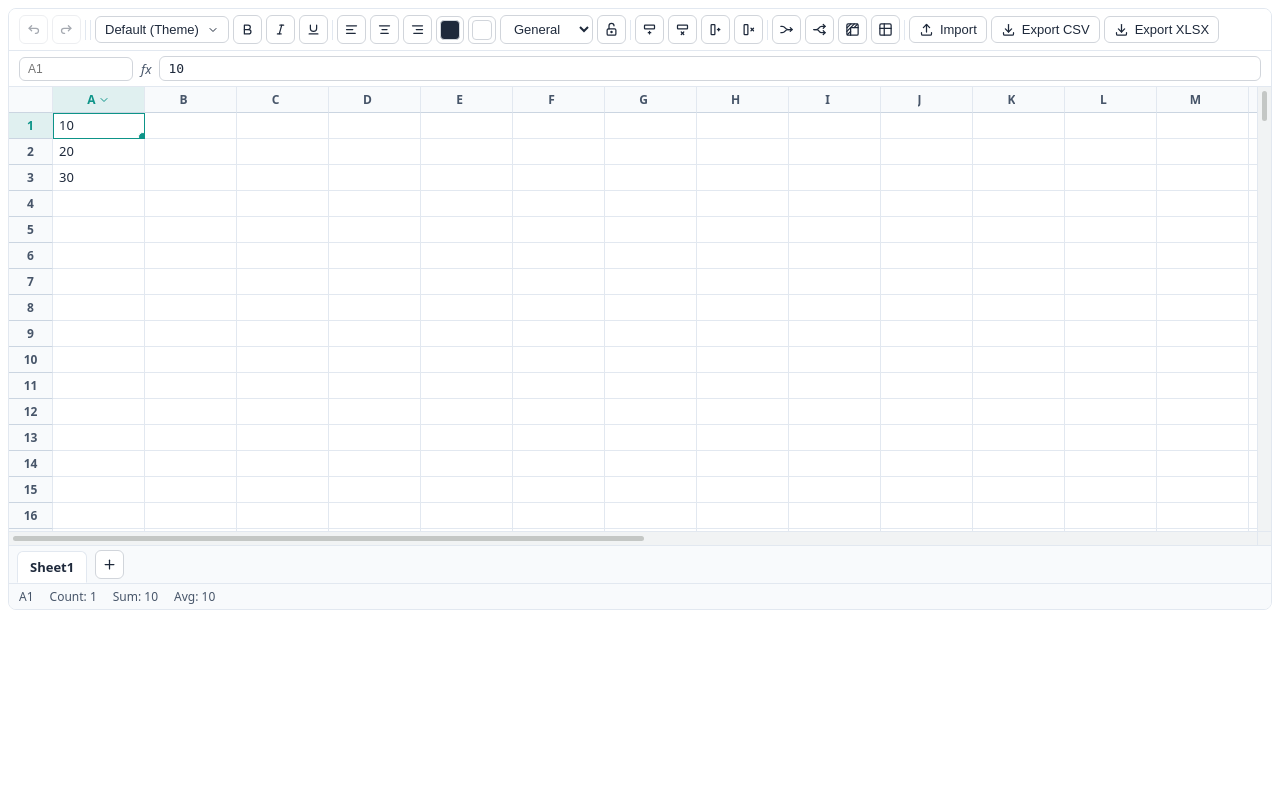
status bar › sums the numeric cells in the selection
In the field named "Name box": (76, 68) [19,56,133,80], type "A1:A3"
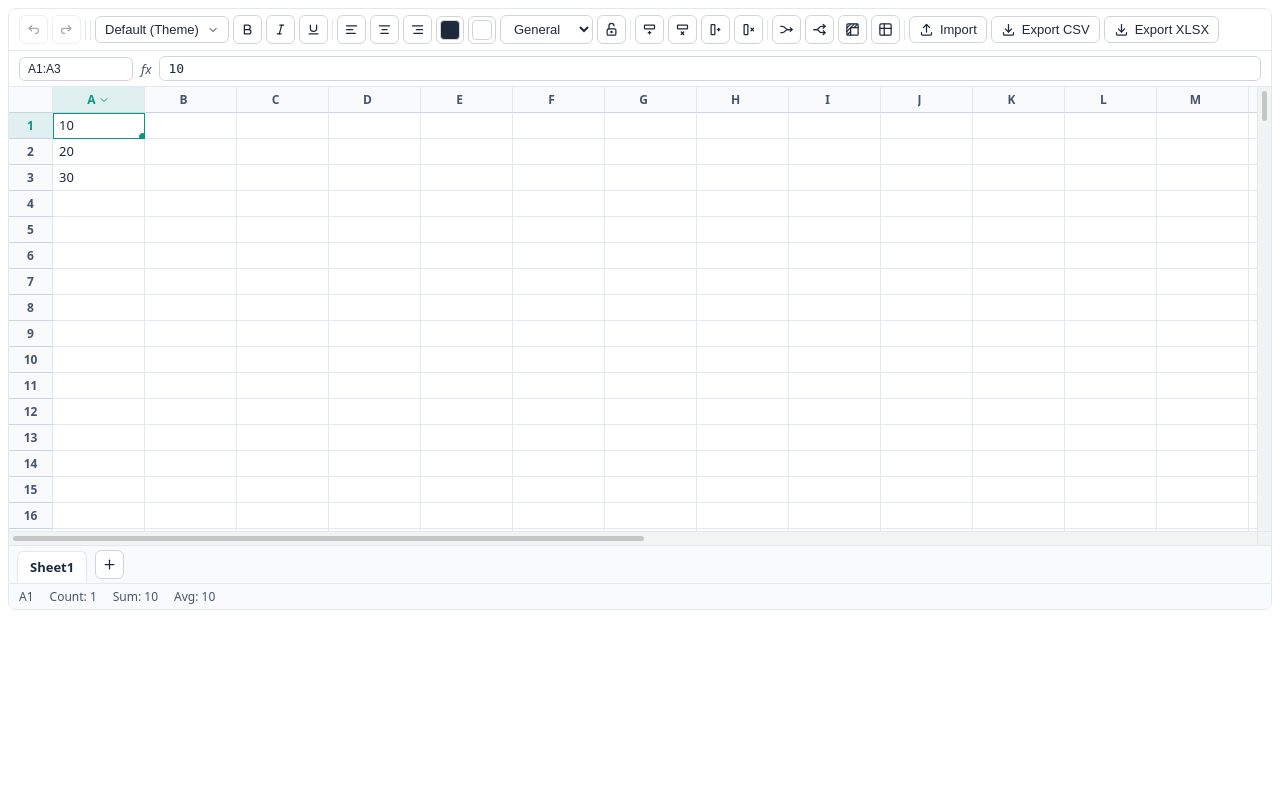
Press Enter in the field named "Name box", box [19,56,133,80]
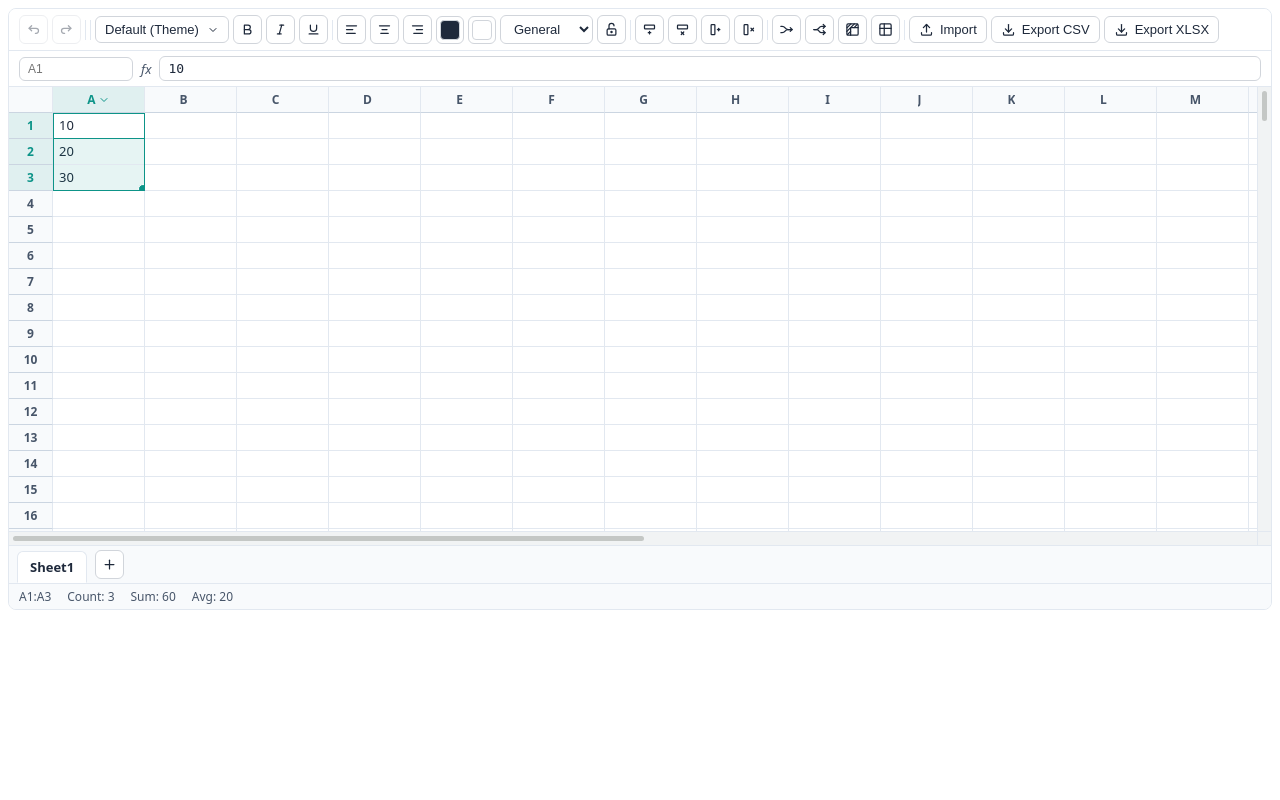
Check: the element with class "a1s-status" shows "Sum: 60", box [9,583,1271,609]
Check: the element with class "a1s-status" shows "Avg: 20", box [9,583,1271,609]
Check: the element with class "a1s-status" shows "Count: 3", box [9,583,1271,609]
